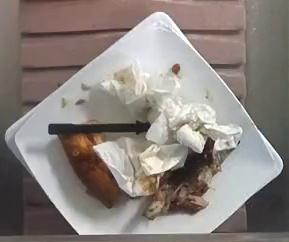pizza_crust: (58, 133, 121, 208)
